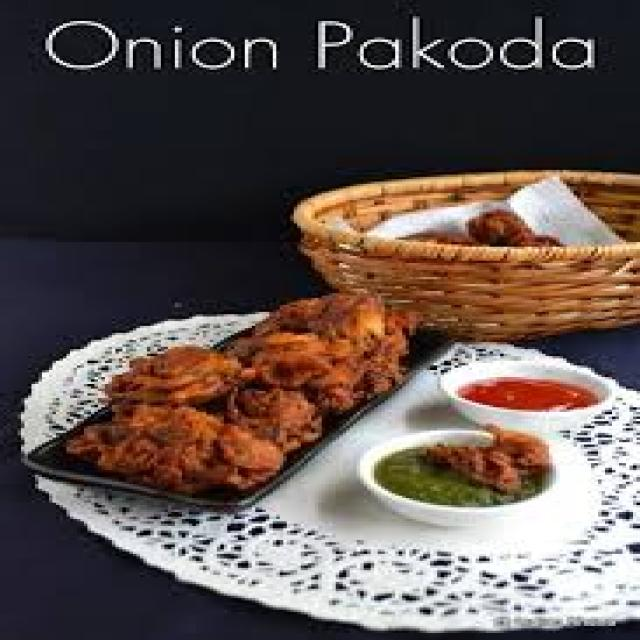BAJI: (62, 292, 431, 495)
